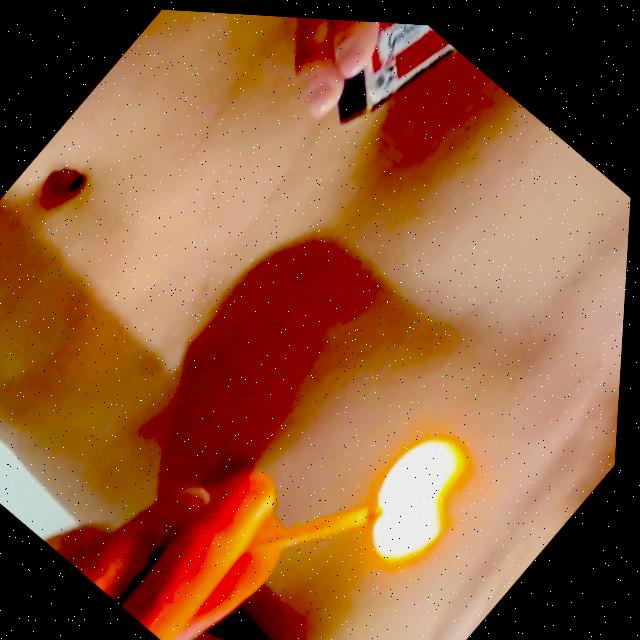Fire: (344, 410, 505, 580)
